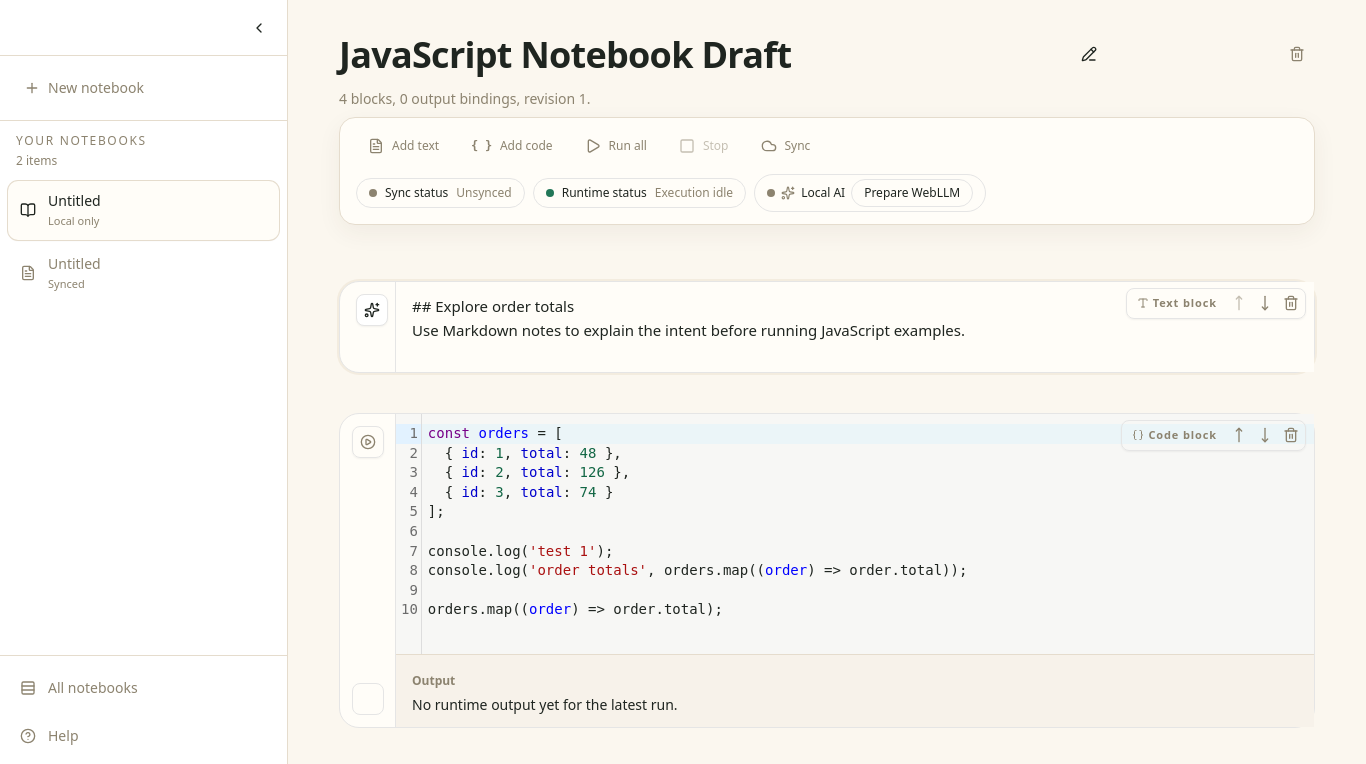
it: NotebookEditorPage › blocks AI requests for local notebooks before hitting the backend
Click the button named "Generate code from blk_intro" at (372, 310), box [356, 294, 388, 326]
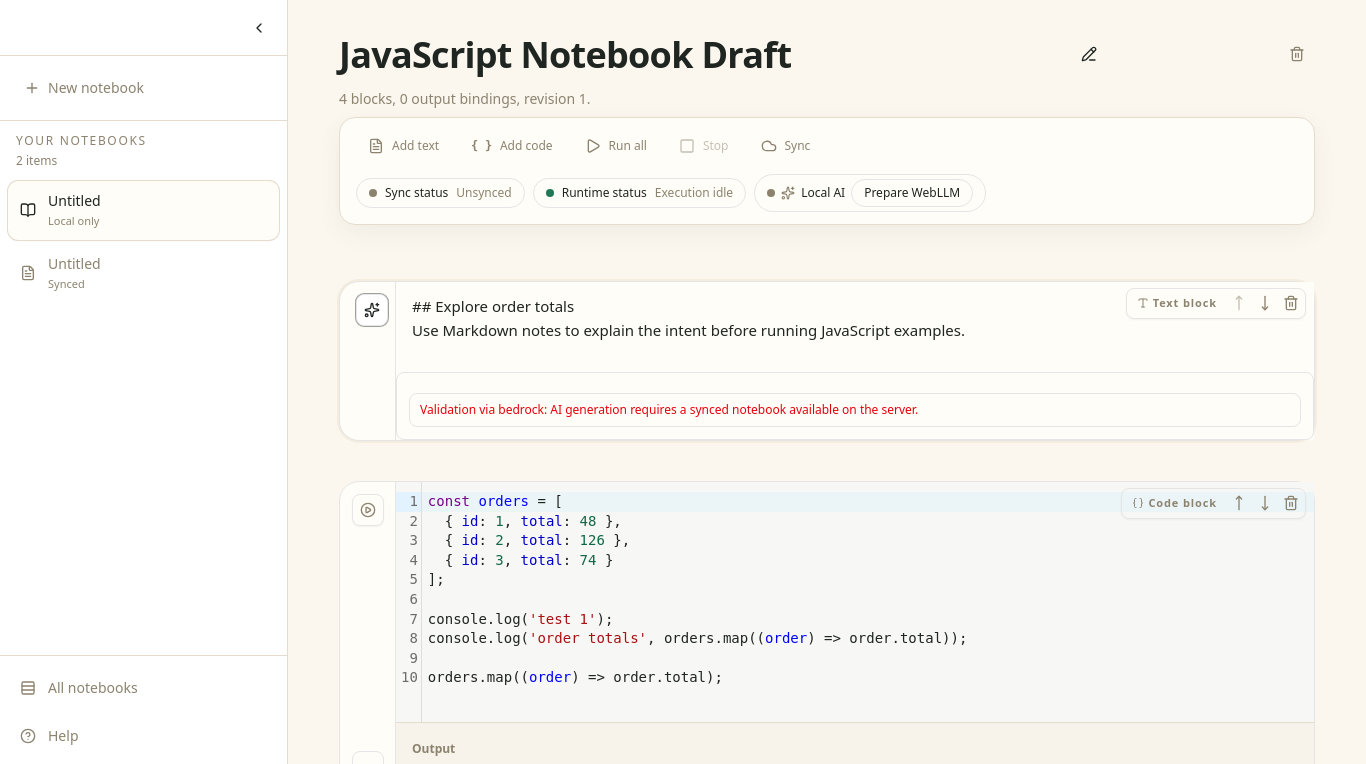
Expected: the element named "Local AI status" shows "Local AI", [801, 184, 845, 201]
Expected: the message shows "Validation via bedrock: AI generation requires a synced notebook available on the server.", [420, 401, 918, 418]
